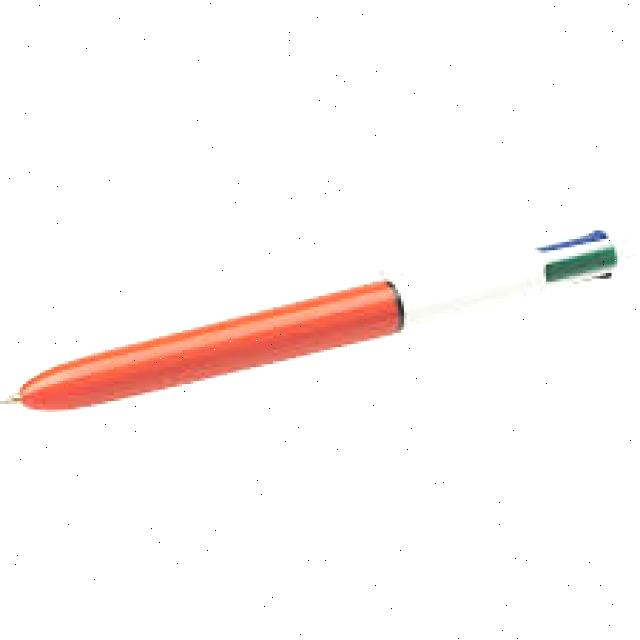pen: (0, 218, 637, 416)
